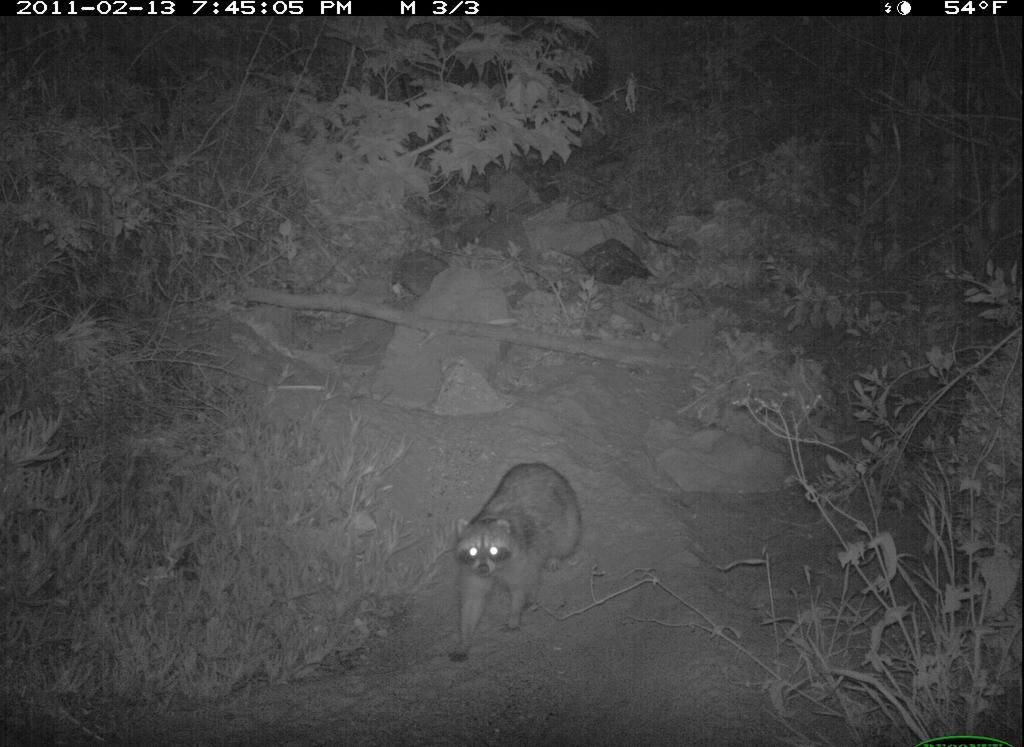raccoon: (429, 454, 587, 679)
